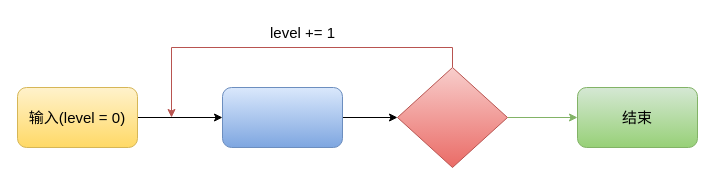
Image size: 715x185. Some labels were removed from this diagram. Here are the shapes that lost their labels. From the top down, the centre of each, then its label:
At (x=282, y=117): "匹配".
At (x=452, y=117): "匹配完成?".
